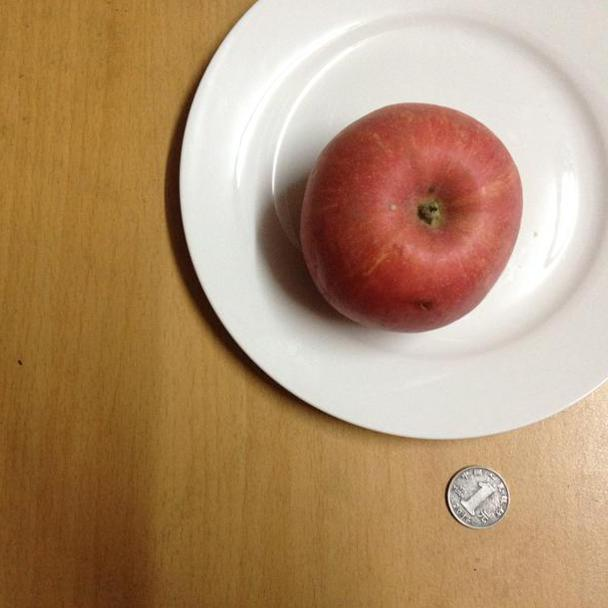apple: (300, 104, 525, 334)
